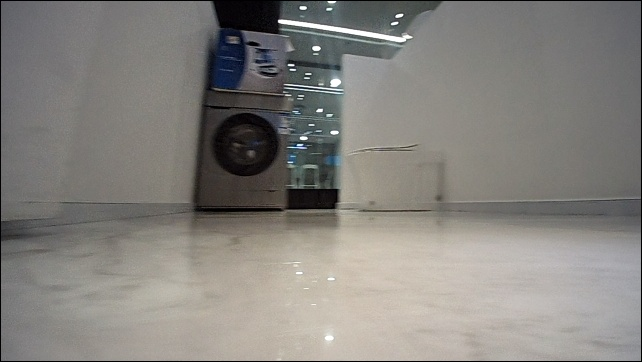toilet: (342, 140, 444, 210)
washing_machine: (192, 86, 291, 213)
